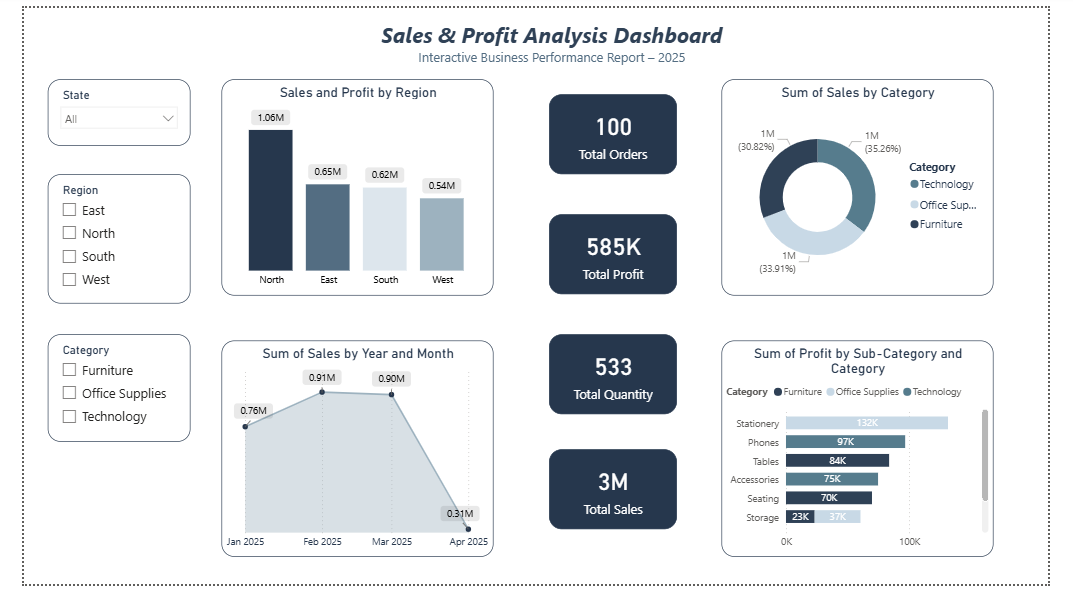

The page's visual inventory and layout, read from the dashboard file:
{"tool":"powerbi","page":{"name":"dashboard 1","canvas":[1280,720],"ordinal":0},"visuals":[{"type":"textbox","box":[0,0,1279.7,89.1],"z":0},{"type":"card","fields":{"Values":["Sheet1.Total Orders"]},"box":[655.7,108.6,160,100],"z":1000},{"type":"clusteredColumnChart","title":"Sales and Profit by Region","fields":{"Category":["Sheet1.Region"],"Y":["Sum(Sheet1.Sales)"]},"box":[247.1,88.6,340,270],"z":2000},{"type":"lineChart","fields":{"Category":["Sheet1.Order Date.Variation.Date Hierarchy.Year","Sheet1.Order Date.Variation.Date Hierarchy.Month"],"Y":["Sum(Sheet1.Sales)"]},"box":[247.1,415.7,340,270],"z":3000},{"type":"donutChart","fields":{"Category":["Sheet1.Category"],"Y":["Sum(Sheet1.Sales)"]},"box":[871.4,88.6,340,270],"z":4000},{"type":"barChart","fields":{"Category":["Sheet1.Sub-Category"],"Y":["Sum(Sheet1.Profit)"],"Series":["Sheet1.Category"]},"box":[871.4,415.7,340,270],"z":5000},{"type":"slicer","fields":{"Values":["Sheet1.Region"]},"box":[30,208.6,178.6,161.4],"z":6000},{"type":"slicer","fields":{"Values":["Sheet1.State"]},"box":[30,88.6,178.6,82.9],"z":7000},{"type":"slicer","fields":{"Values":["Sheet1.Category"]},"box":[30,408.6,178.6,134.3],"z":8000},{"type":"card","fields":{"Values":["Sheet1.Total Profit"]},"box":[655.7,258.6,160,100],"z":9000},{"type":"card","fields":{"Values":["Sheet1.Total Quantity"]},"box":[655.7,408.6,160,100],"z":10000},{"type":"card","fields":{"Values":["Sheet1.Total Sales"]},"box":[655.7,551.4,160,100],"z":11000}]}

Visuals, with their boxes in screenshot pixels (x1, y1, x2, y2), scaled from the page's 1280x720 canvas onto the 1073x593 screenshot:
textbox: rect(0, 0, 1072, 73)
card - Sheet1.Total Orders: rect(550, 89, 684, 172)
"Sales and Profit by Region" clusteredColumnChart: rect(207, 73, 492, 295)
lineChart - Sheet1.Order Date.Variation.Date Hierarchy.Year x Sheet1.Order Date.Variation.Date Hierarchy.Month: rect(207, 342, 492, 565)
donutChart - Sheet1.Category x Sum(Sheet1.Sales): rect(730, 73, 1015, 295)
barChart - Sheet1.Sub-Category x Sum(Sheet1.Profit): rect(730, 342, 1015, 565)
slicer - Sheet1.Region: rect(25, 172, 175, 305)
slicer - Sheet1.State: rect(25, 73, 175, 141)
slicer - Sheet1.Category: rect(25, 337, 175, 447)
card - Sheet1.Total Profit: rect(550, 213, 684, 295)
card - Sheet1.Total Quantity: rect(550, 337, 684, 419)
card - Sheet1.Total Sales: rect(550, 454, 684, 537)
